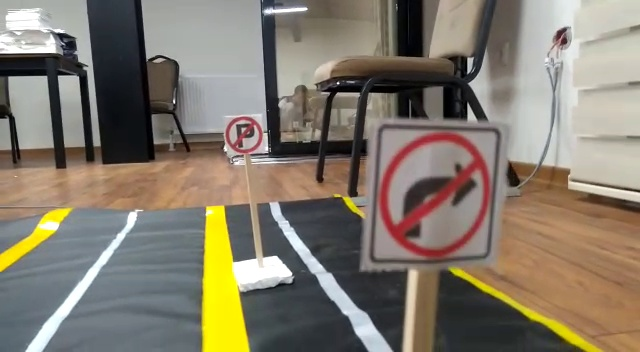park_yapilmaz: (223, 115, 266, 149)
saga_donulmez: (376, 121, 496, 262)
